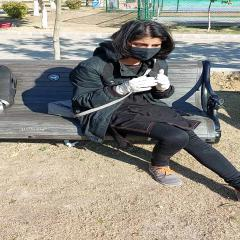gloved: (117, 75, 156, 93), (156, 73, 168, 92)
